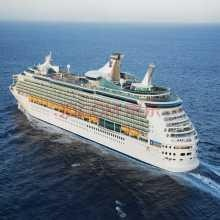youlun: (7, 47, 206, 174)
